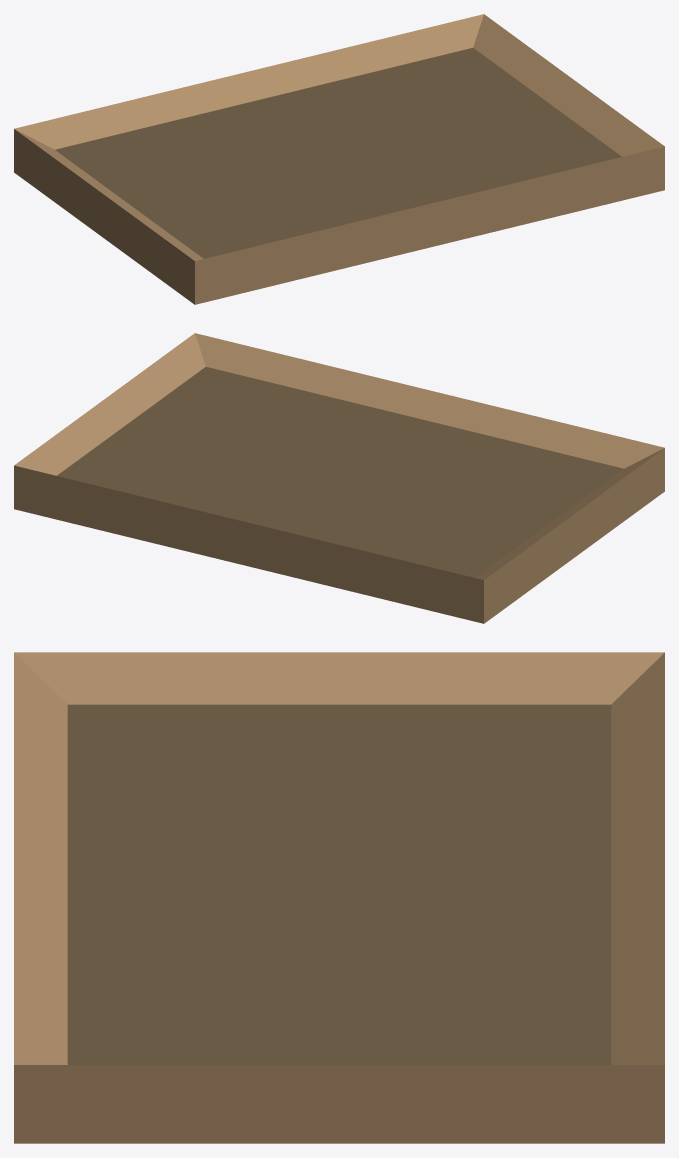
The model's file is prop-tablet-frame-blank.fbx.
The picture shows the model from 3 angles, top to bottom: view 1: azimuth 30°, elevation 25°; view 2: azimuth 150°, elevation 25°; view 3: azimuth 270°, elevation 25°; orthographic projection. The views are drawn at different scales.
Parts seen in each view (by area): view 1: prop-tablet-frame-blank; view 2: prop-tablet-frame-blank; view 3: prop-tablet-frame-blank.
Boxes of the visible parts, x1,y1,x2,y2 form: prop-tablet-frame-blank: (14,14,664,304); prop-tablet-frame-blank: (14,333,664,623); prop-tablet-frame-blank: (14,652,664,1143).
Bounding box in the file's own units: 18 × 1.6 × 12.
